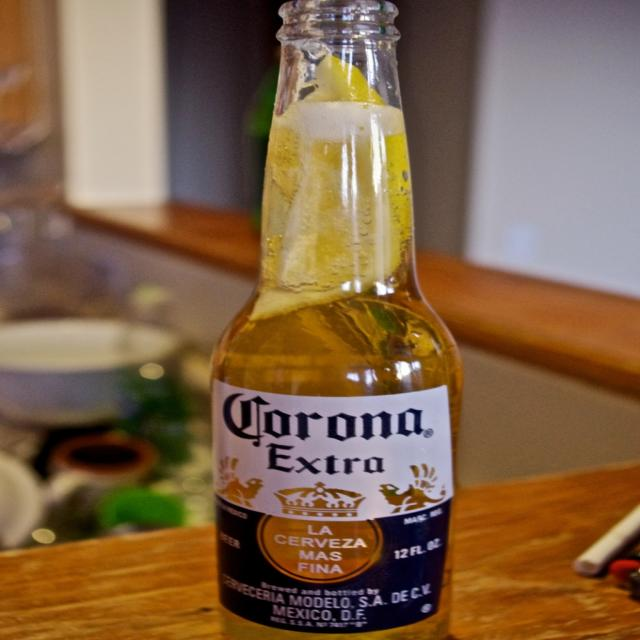corona: (213, 381, 456, 635)
